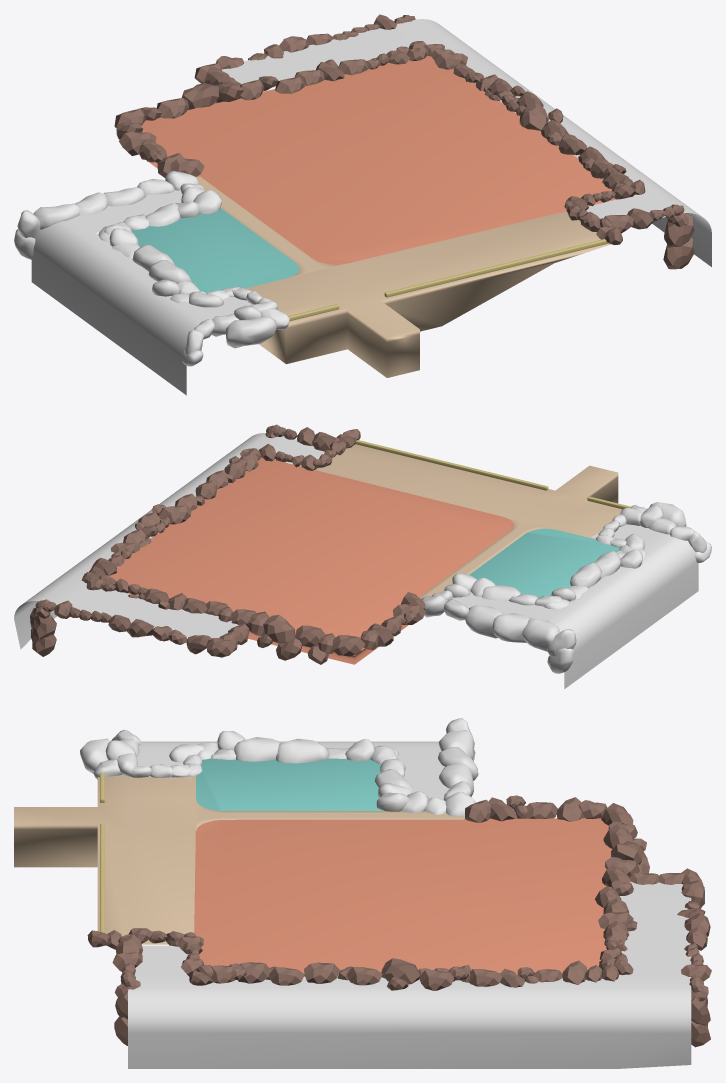
The model's file is Map_03.fbx.
The picture shows the model from 3 angles, top to bottom: view 1: azimuth 30°, elevation 25°; view 2: azimuth 150°, elevation 25°; view 3: azimuth 270°, elevation 25°; orthographic projection. The views are drawn at different scales.
Parts seen in each view (by area): view 1: Neutral_ground.001, Heaven_water.001, Hell_Lava.001; view 2: Neutral_ground.001, Heaven_water.001, Hell_Lava.001; view 3: Neutral_ground.001, Hell_Lava.001, Heaven_water.001.
Part boxes in pixels (x1=…): Neutral_ground.001: x1=14, y1=14, x2=694, y2=377; Heaven_water.001: x1=31, y1=190, x2=252, y2=395; Hell_Lava.001: x1=222, y1=19, x2=711, y2=266; Neutral_ground.001: x1=30, y1=424, x2=711, y2=673; Heaven_water.001: x1=452, y1=524, x2=698, y2=688; Hell_Lava.001: x1=14, y1=433, x2=324, y2=649; Neutral_ground.001: x1=14, y1=718, x2=711, y2=1047; Hell_Lava.001: x1=128, y1=881, x2=691, y2=1068; Heaven_water.001: x1=137, y1=741, x2=449, y2=799.
Size of the model in its own units: 138 by 19.52 by 146.
